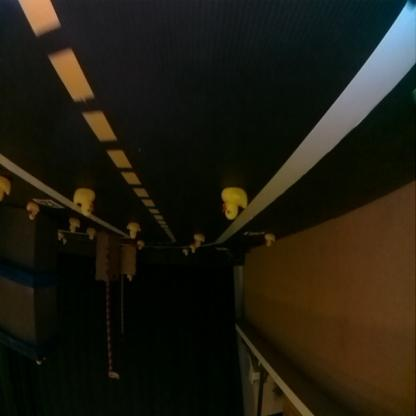Duckie: (223, 190, 247, 219), (73, 190, 94, 215), (1, 177, 10, 201), (127, 223, 139, 240), (26, 204, 37, 220), (68, 220, 80, 233), (194, 234, 204, 247), (86, 230, 94, 242), (266, 234, 272, 247), (190, 245, 196, 253), (57, 233, 63, 241), (182, 250, 187, 256), (127, 276, 132, 282), (62, 240, 67, 245), (138, 244, 142, 250)
QR code: (34, 200, 60, 208), (244, 232, 262, 239)
